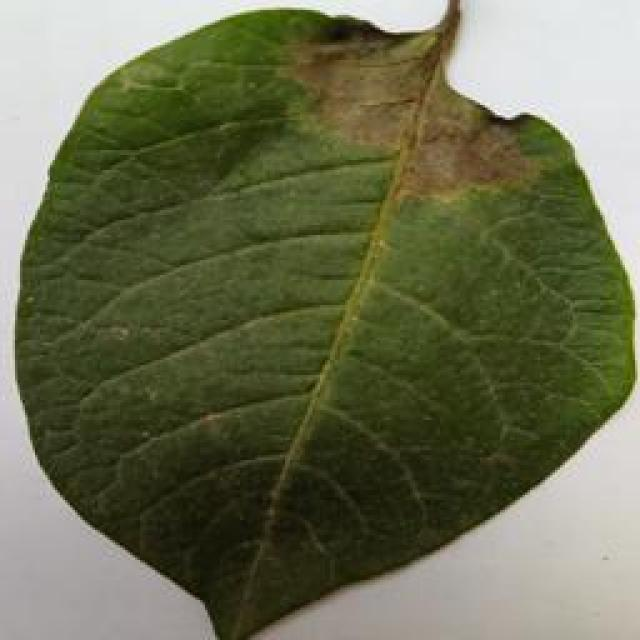Potato_Late_Blight: (7, 8, 633, 628)
